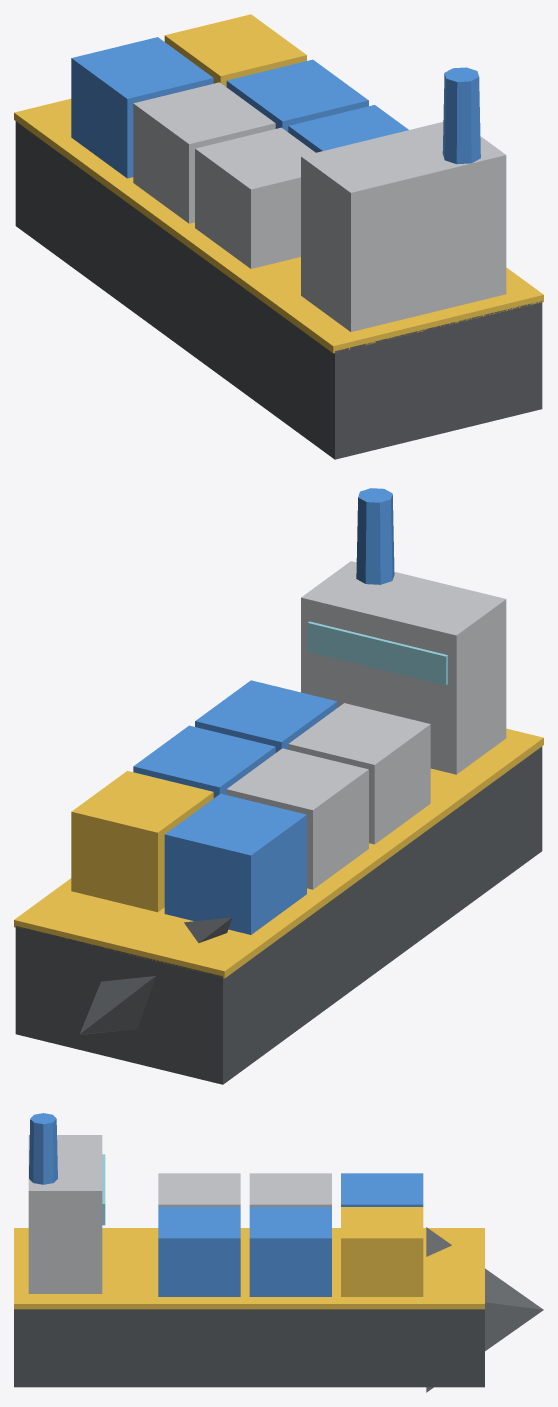
File: TradeShip.fbx
The picture shows the model from 3 angles, top to bottom: view 1: azimuth 30°, elevation 25°; view 2: azimuth 150°, elevation 25°; view 3: azimuth 270°, elevation 25°; orthographic projection. The views are drawn at different scales.
Visible parts, largest first — view 1: Metal.008, Dark.008, Team.008, Hazard.007; view 2: Dark.008, Metal.008, Hazard.007, Team.008, Glass.003; view 3: Dark.008, Hazard.007, Team.008, Metal.008.
Part boxes in pixels (<box>): Metal.008: <box>133,82,506,331</box>; Dark.008: <box>15,121,542,459</box>; Team.008: <box>71,37,480,178</box>; Hazard.007: <box>14,14,543,353</box>; Dark.008: <box>15,746,542,1084</box>; Metal.008: <box>226,561,506,889</box>; Hazard.007: <box>14,728,543,978</box>; Team.008: <box>133,488,394,934</box>; Glass.003: <box>307,621,447,685</box>; Dark.008: <box>14,1227,543,1392</box>; Hazard.007: <box>14,1207,484,1309</box>; Team.008: <box>29,1113,423,1296</box>; Metal.008: <box>28,1135,331,1293</box>.
Bounding box in the file's own units: 122 × 197 × 360.
